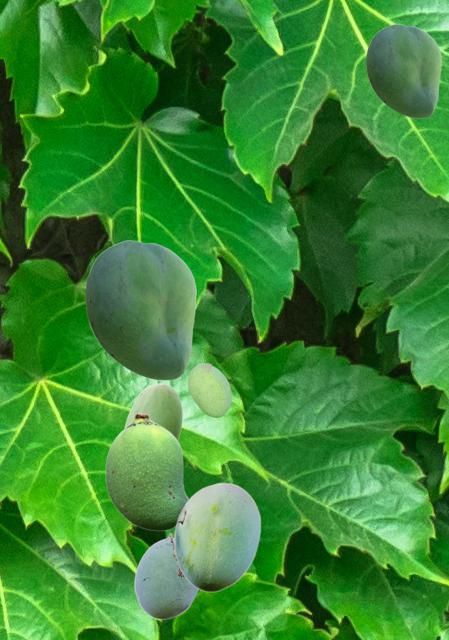green_mango: (85, 240, 195, 379), (105, 413, 188, 530), (173, 482, 260, 591), (366, 24, 440, 117), (134, 533, 198, 618), (124, 383, 181, 439), (188, 363, 230, 416)
